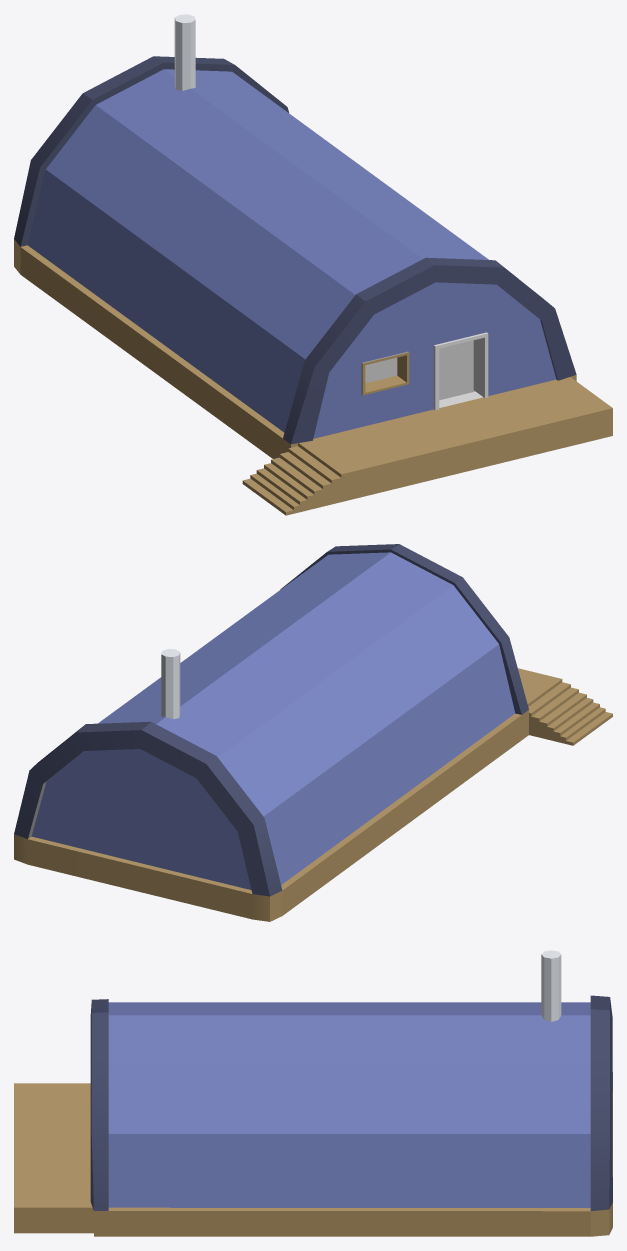
The picture shows the model from 3 angles, top to bottom: view 1: azimuth 30°, elevation 25°; view 2: azimuth 150°, elevation 25°; view 3: azimuth 270°, elevation 25°; orthographic projection. The views are drawn at different scales.
Parts seen in each view (by area): view 1: Base; view 2: Base; view 3: Base.
Boxes of the visible parts, bbox=[...] form: Base: bbox=[14, 14, 612, 515]; Base: bbox=[14, 544, 612, 921]; Base: bbox=[14, 950, 612, 1236].
Bounding box in the file's own units: 1336 × 903 × 2250.
